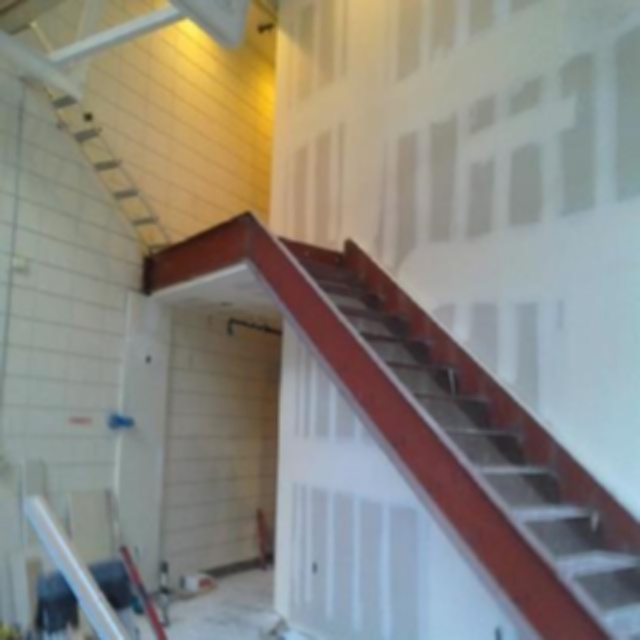stair: (246, 209, 640, 640), (11, 18, 175, 254)
